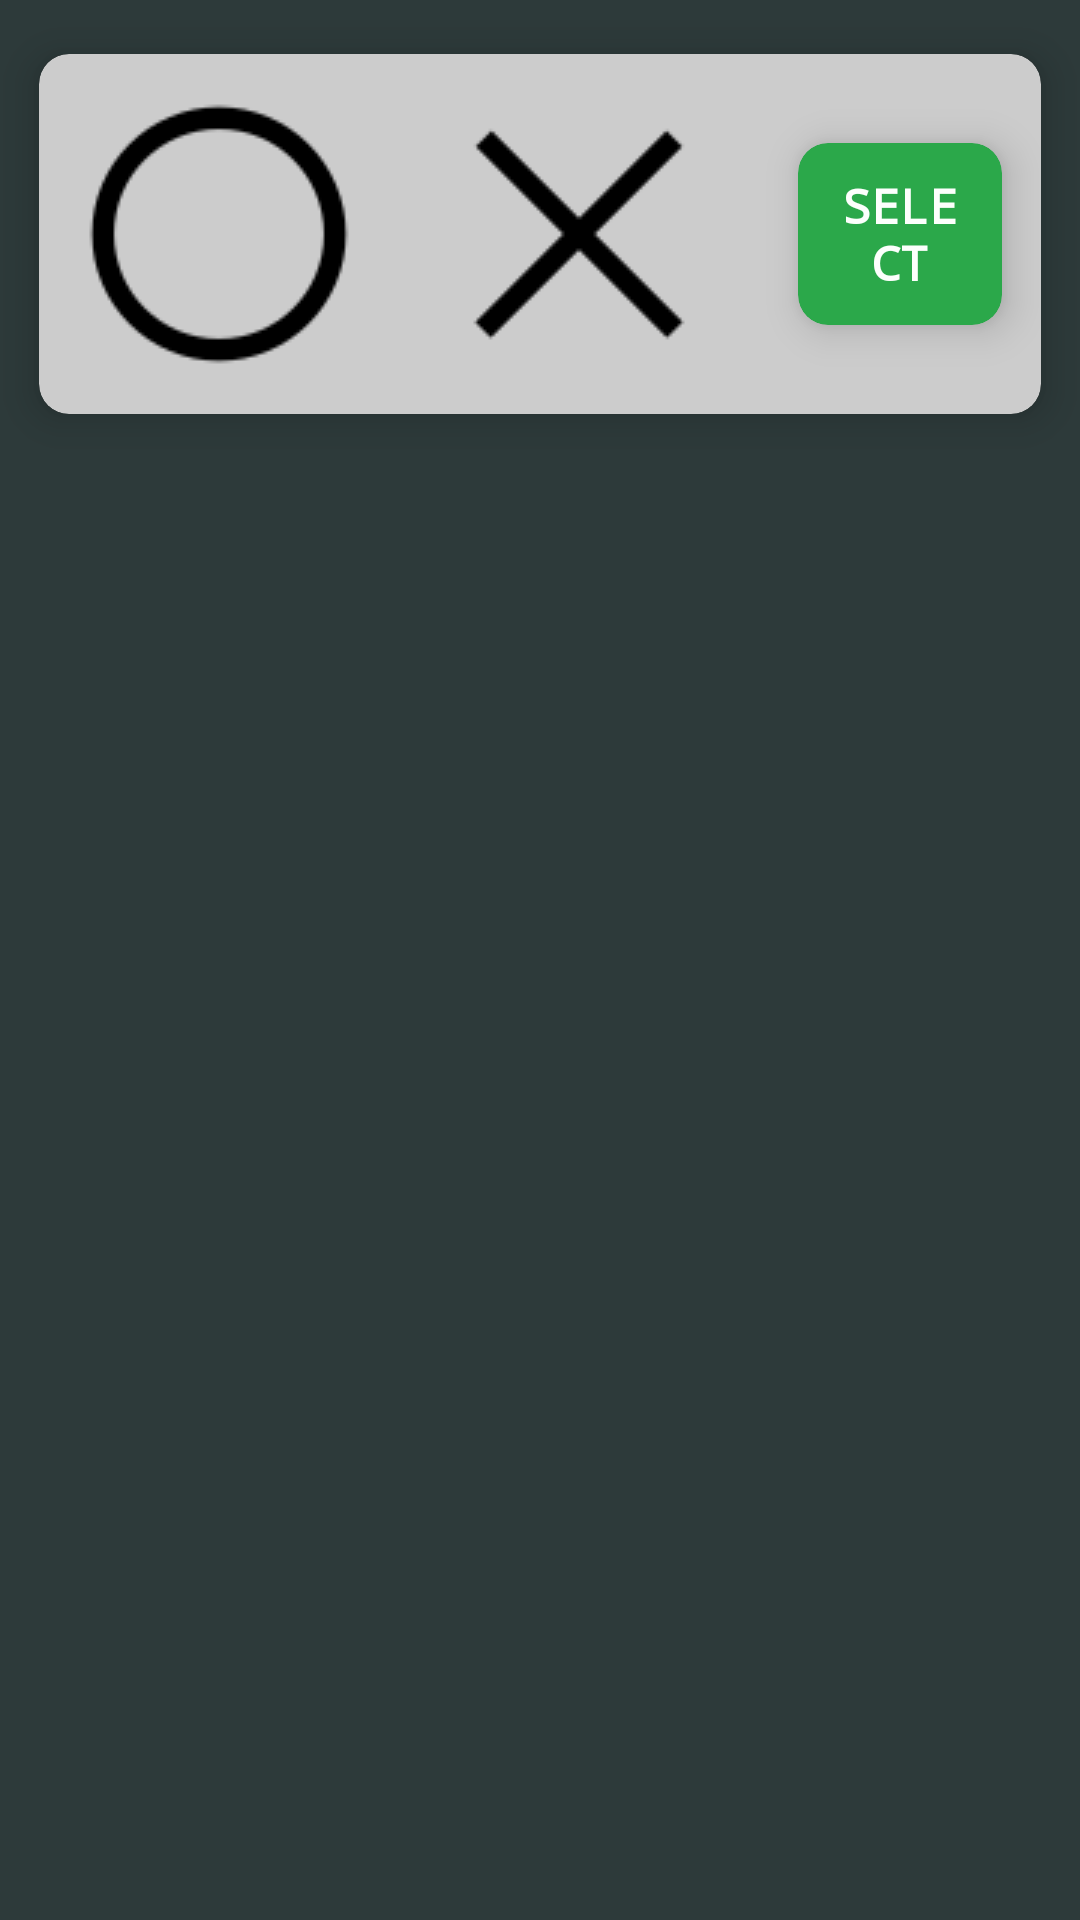

Screen size 1080 x 1920. Icon name, then its center in pixels as [x,y]:
circle: [219,234]
cross: [579,234]
